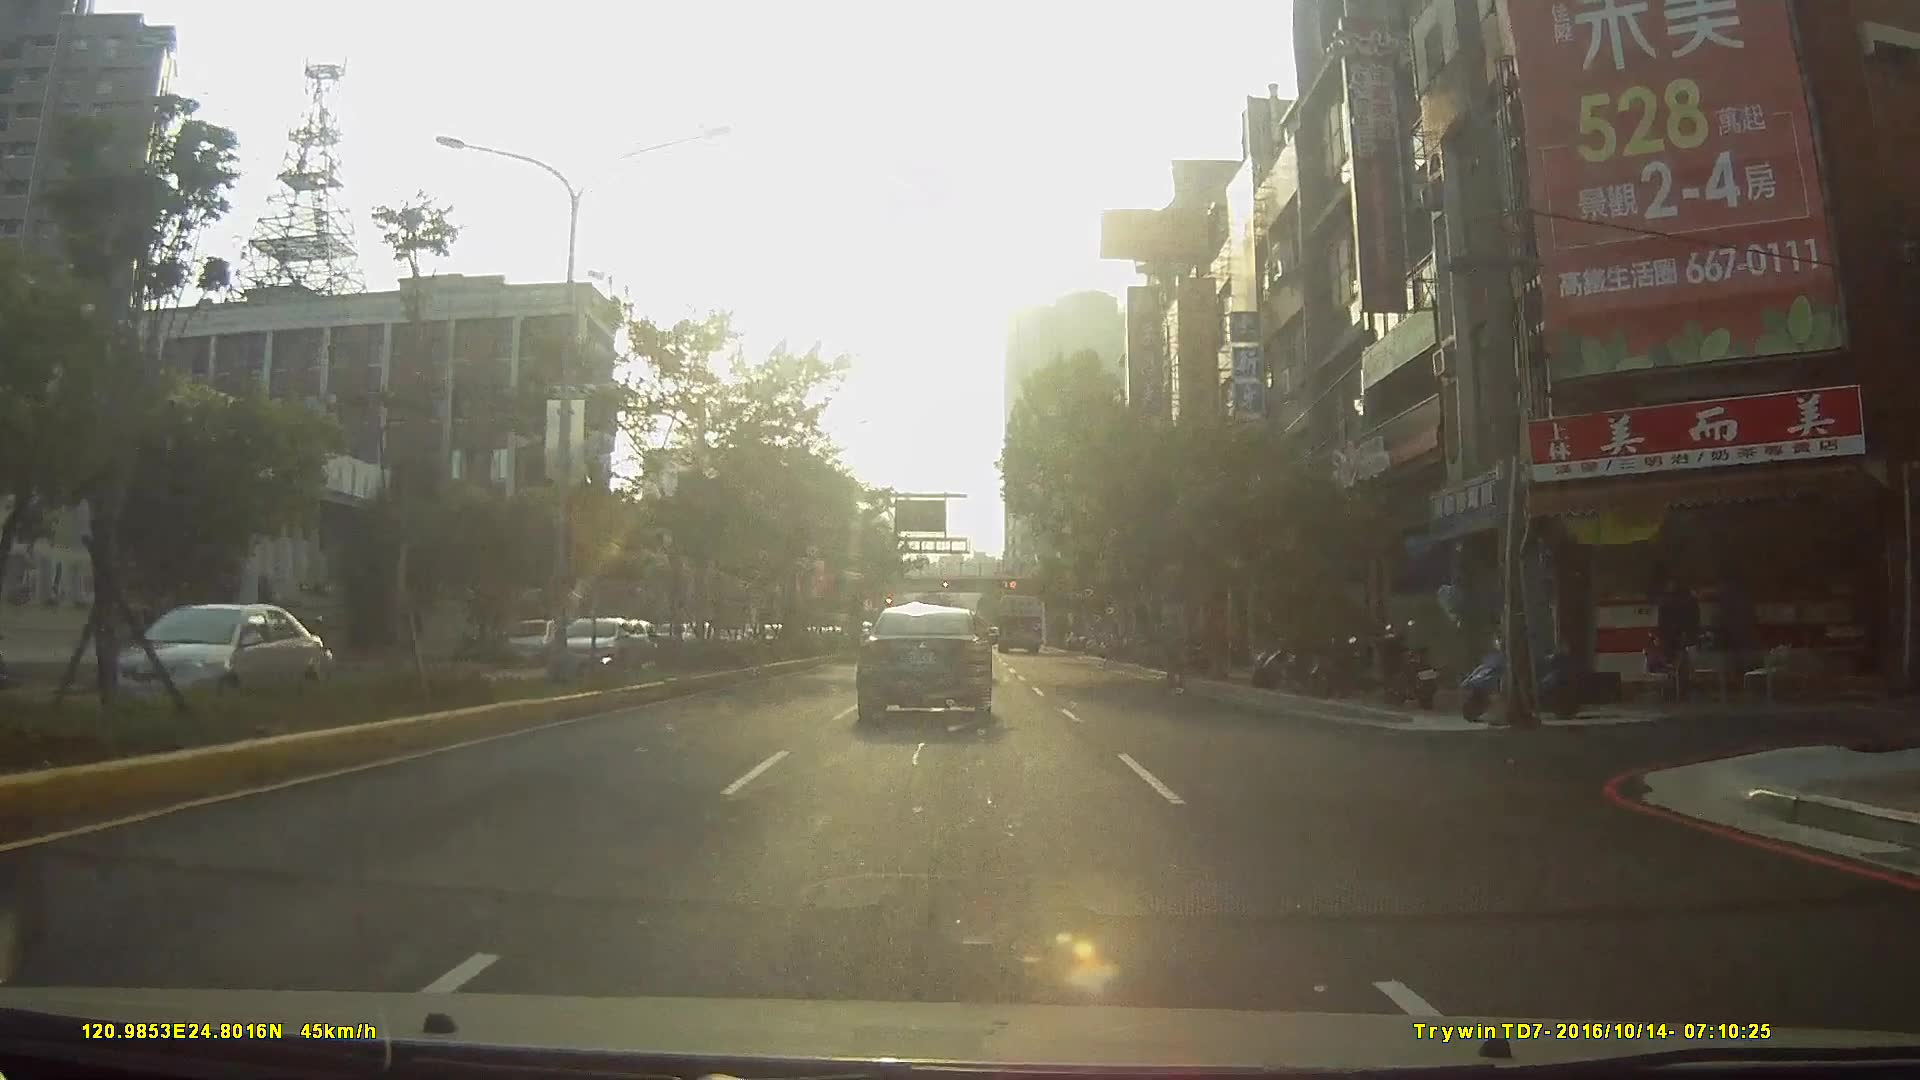pedestrian: (1160, 609, 1200, 703)
vehicle: (80, 595, 336, 724), (854, 602, 996, 725), (547, 614, 651, 684), (992, 592, 1043, 655), (501, 618, 562, 665)
